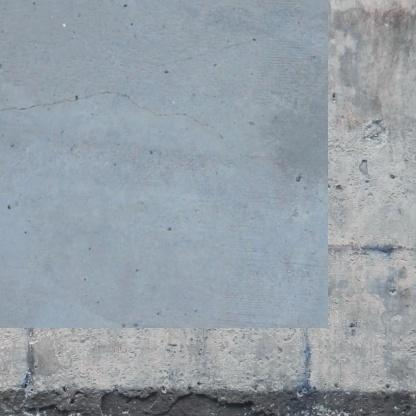Cracks: (0, 78, 255, 153)
